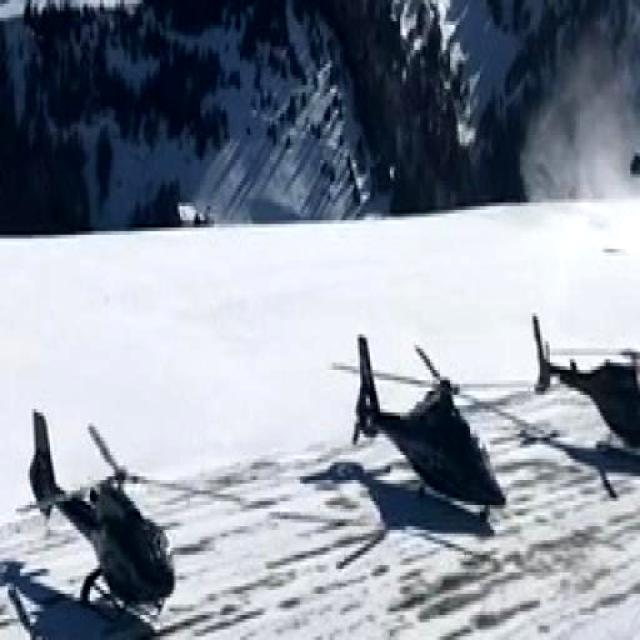drone: (2, 408, 202, 640), (325, 318, 511, 564), (524, 294, 640, 511)
